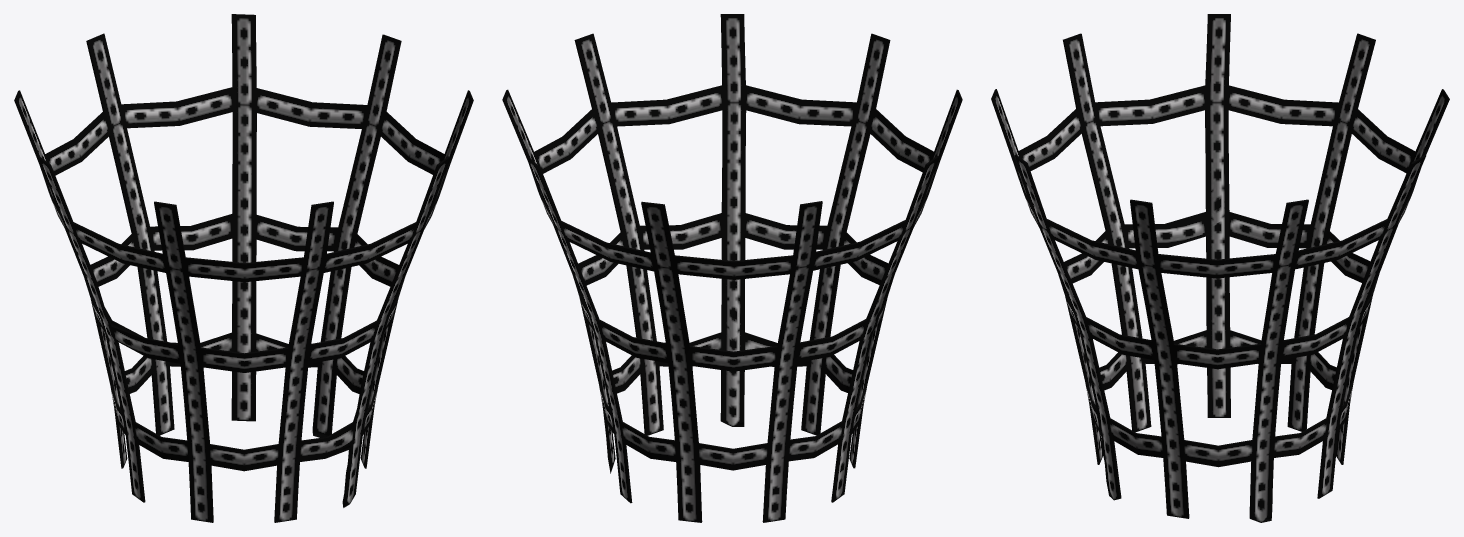
File: Net.FBX
The picture shows the model from 3 angles, left to right: view 1: azimuth 30°, elevation 25°; view 2: azimuth 150°, elevation 25°; view 3: azimuth 270°, elevation 25°; orthographic projection.
Parts seen in each view (by area): view 1: Net; view 2: Net; view 3: Net.
Part boxes in pixels (left/top/right/bottom): Net: left=14, top=14, right=473, bottom=522; Net: left=502, top=14, right=962, bottom=522; Net: left=991, top=14, right=1449, bottom=522.
Bounding box in the file's own units: 0.3 × 0.2679 × 0.306.
